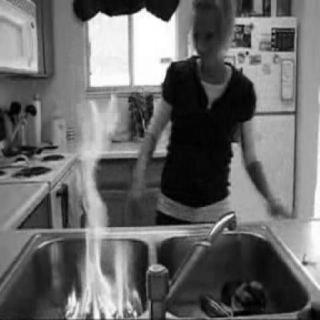Fire: (40, 76, 156, 316)
